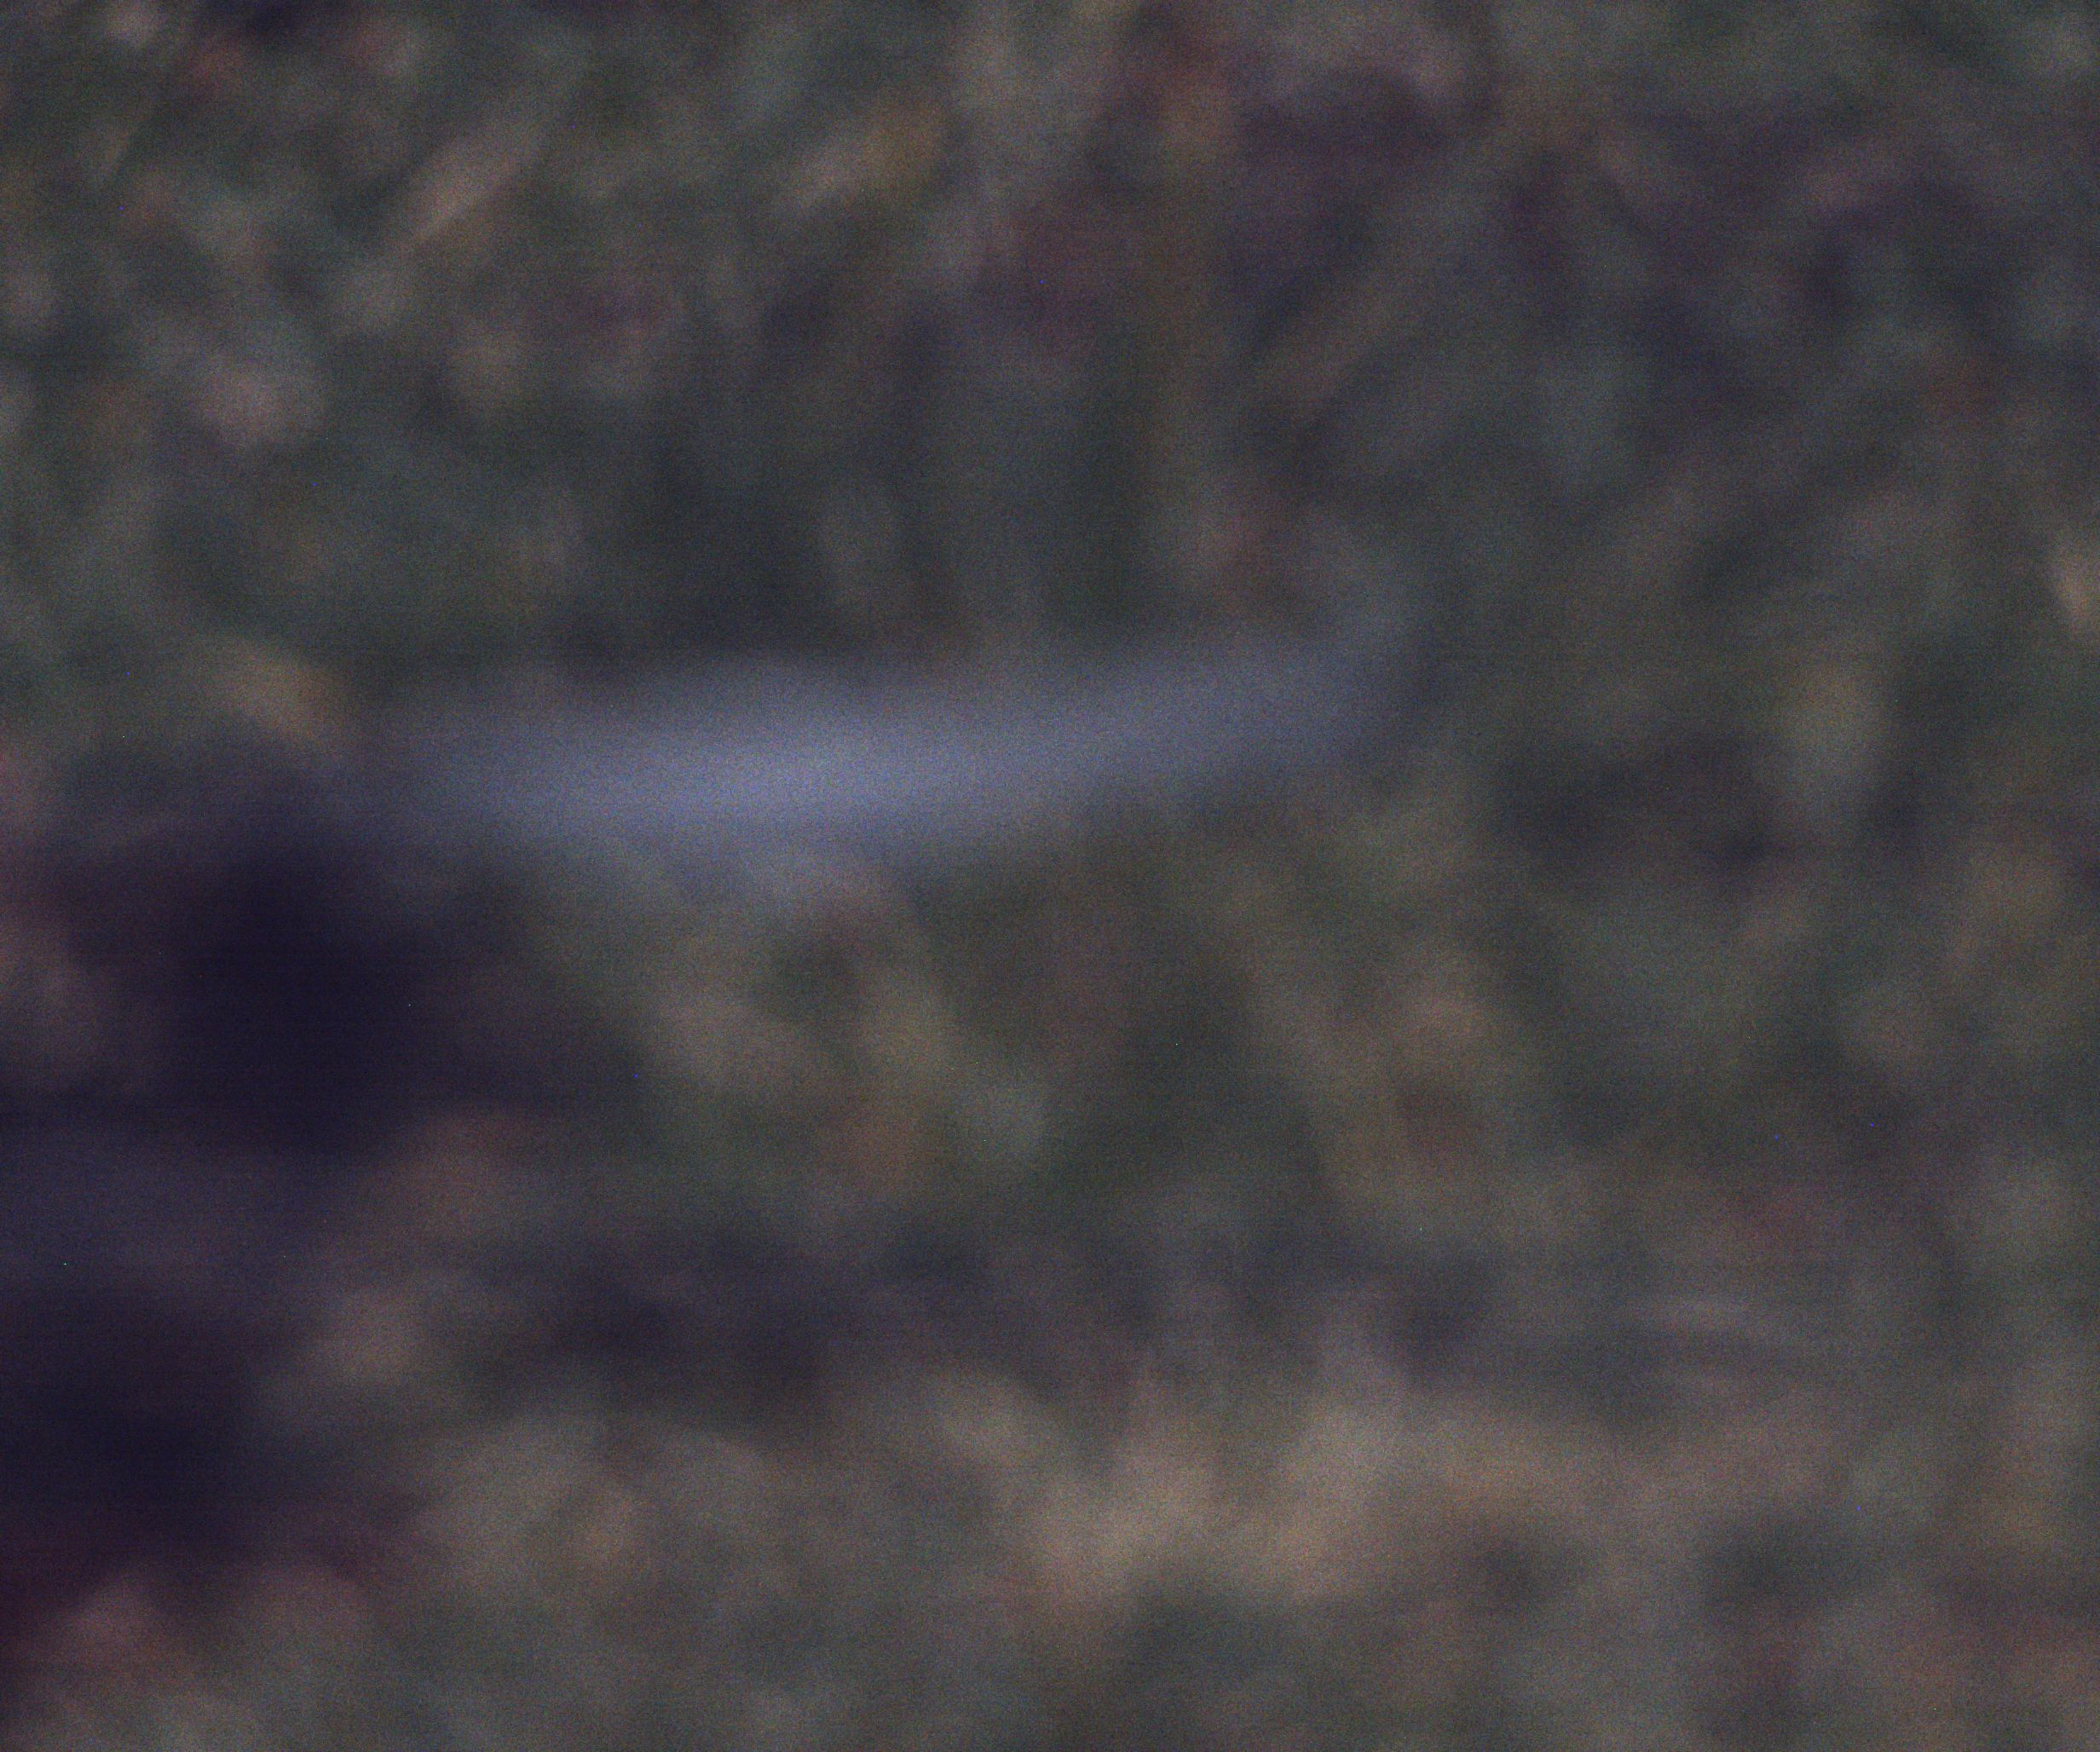Drohne: (7, 631, 1413, 1653)
